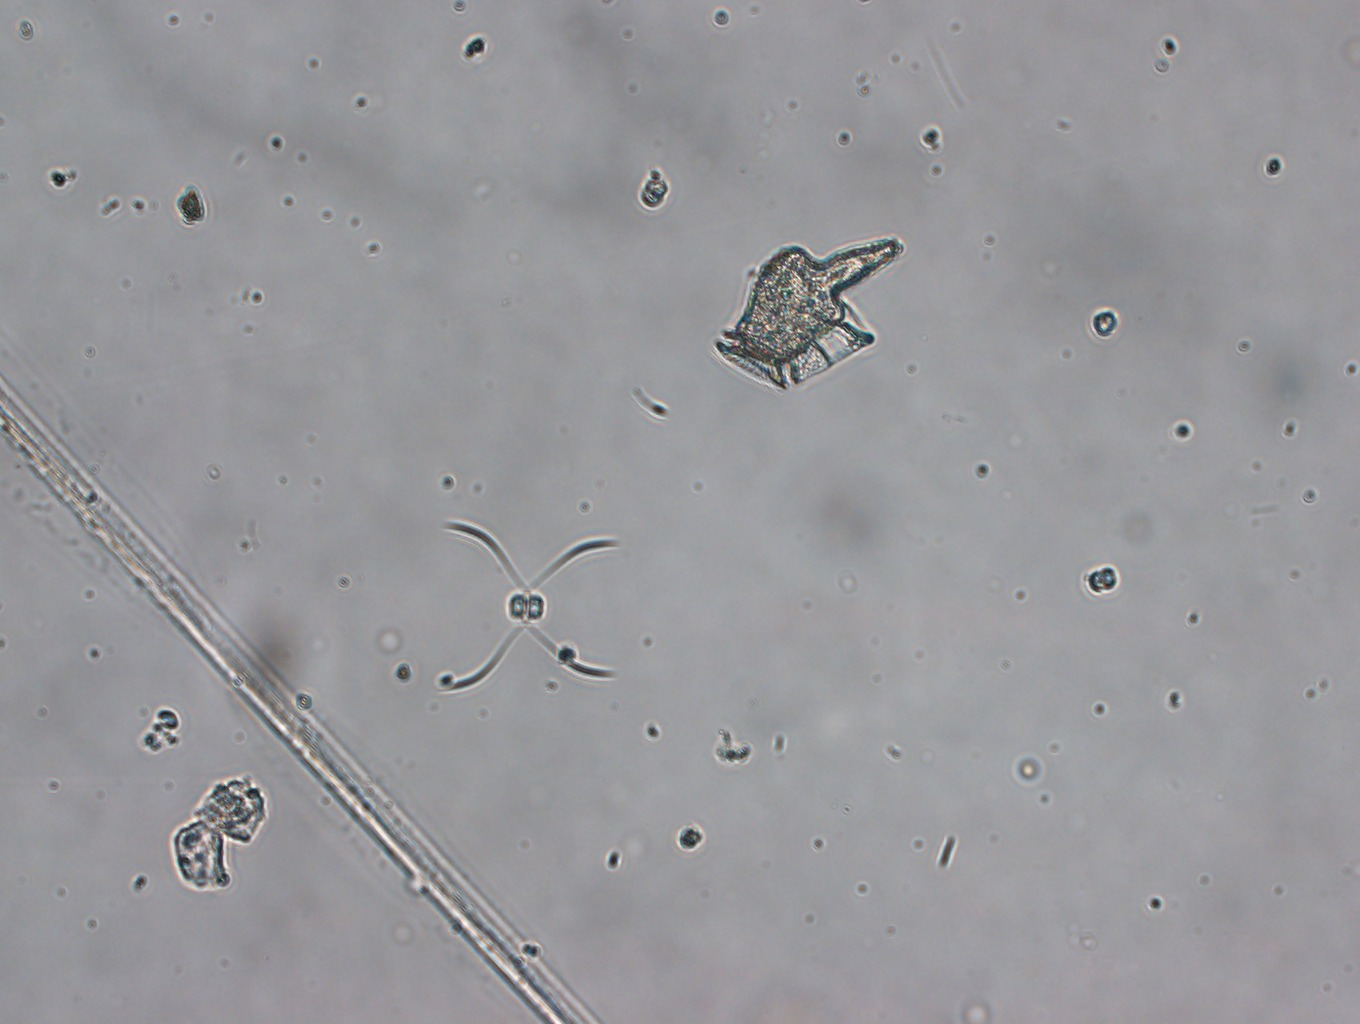chaetoceros: (434, 509, 638, 695)
dinophysis caudata: (706, 231, 911, 399)
